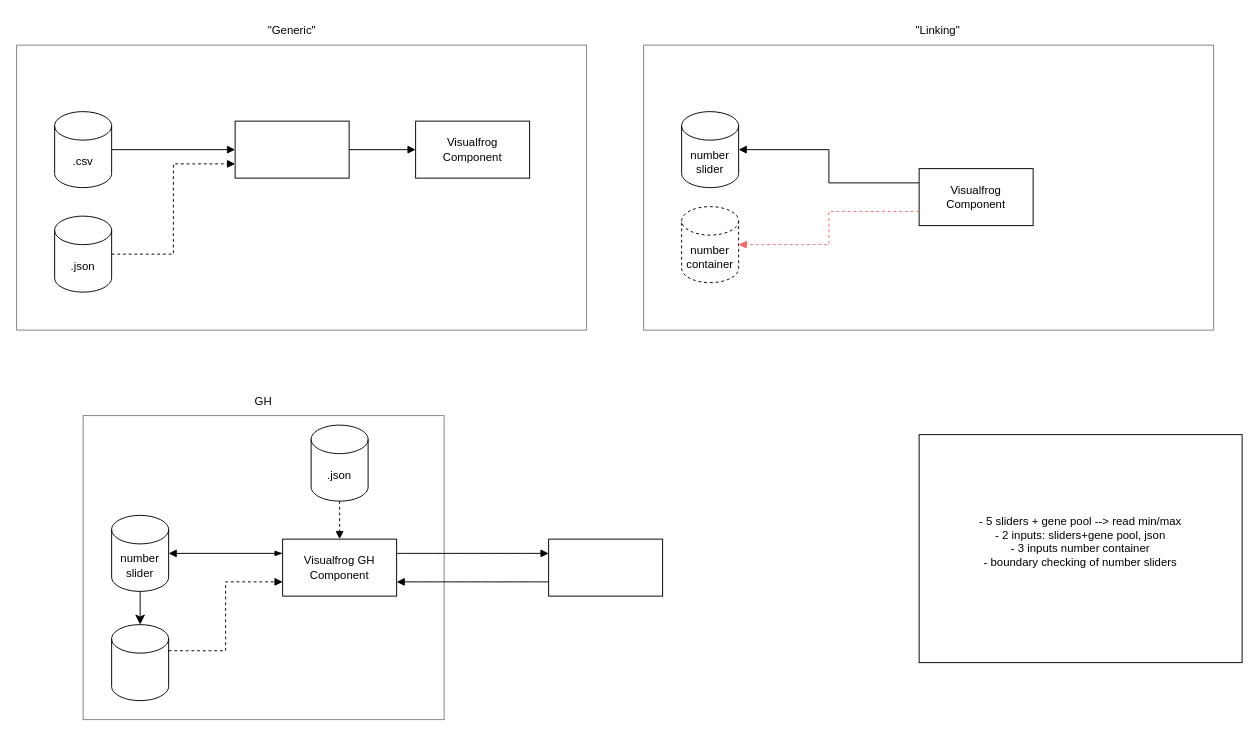
This 1259x736 diagram has some shape labels left out. Each missing label, with the centre of its shape:
"GH.string (tree)" belongs at (x=291, y=149).
"Simulation /SM" belongs at (x=140, y=662).
"Visualfrog Visualization" belongs at (x=605, y=567).
